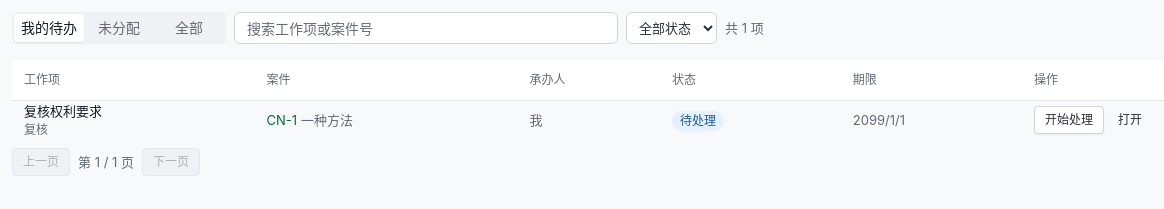
it: workbench queue（阶段6 服务端分页契约） › 筛选变更不残留上一筛选的行（placeholder 仅同筛选翻页保留）
The image size is (1164, 209).
Expected: the row with test id "work-item-w1" is shown, [12,100,1163,140]
Click the radio button with test id "queue-scope-unassigned": coordinates (119, 28) [84,14,154,42]
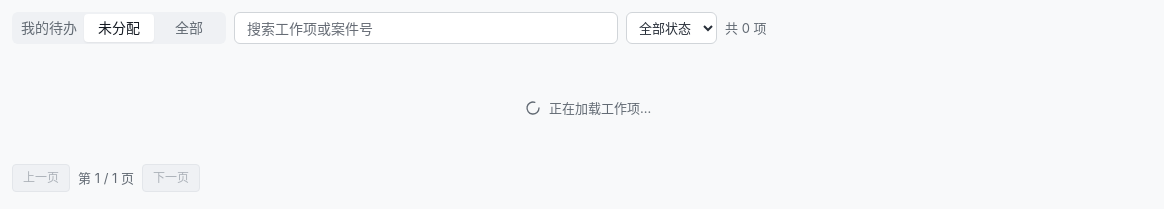
Expected: the row with test id "work-item-w1" is gone
Expected: the message "正在加载工作项…" is shown, [525,100,651,116]
